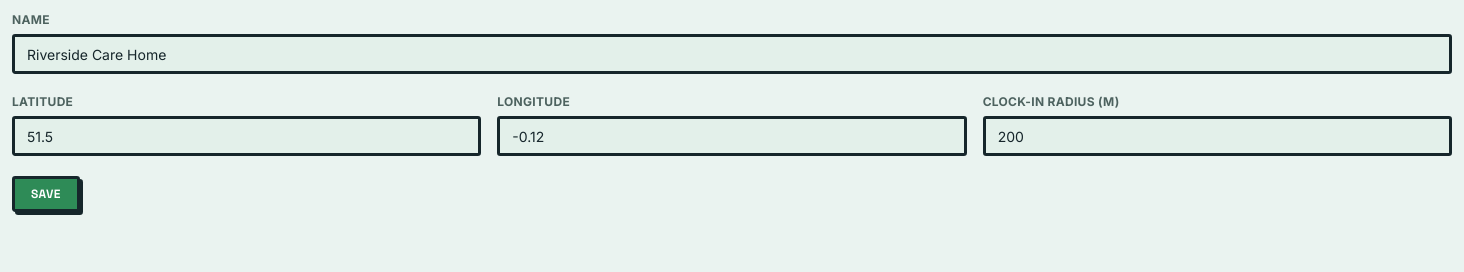
Test: WorkplaceSettingsForm › shows a success message when the save succeeds
The image size is (1464, 272).
Click the button "Save".
click(46, 194)  # box [12,176,80,212]
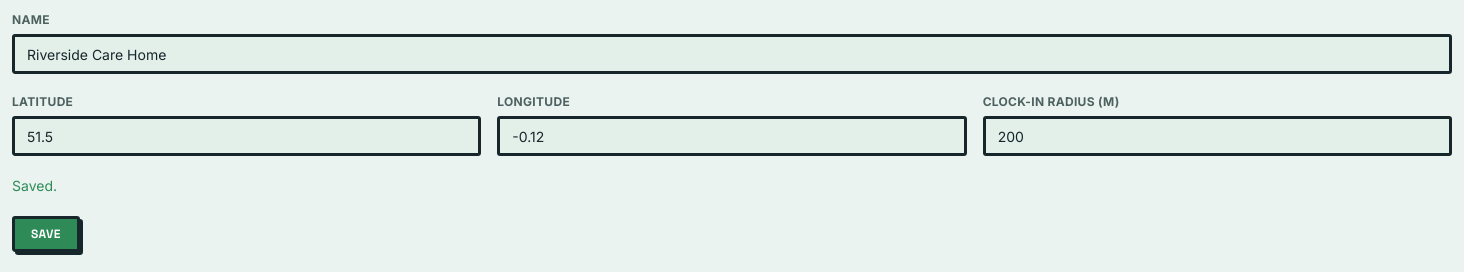
Expected: the text "Saved." is shown, [12,177,57,194]
